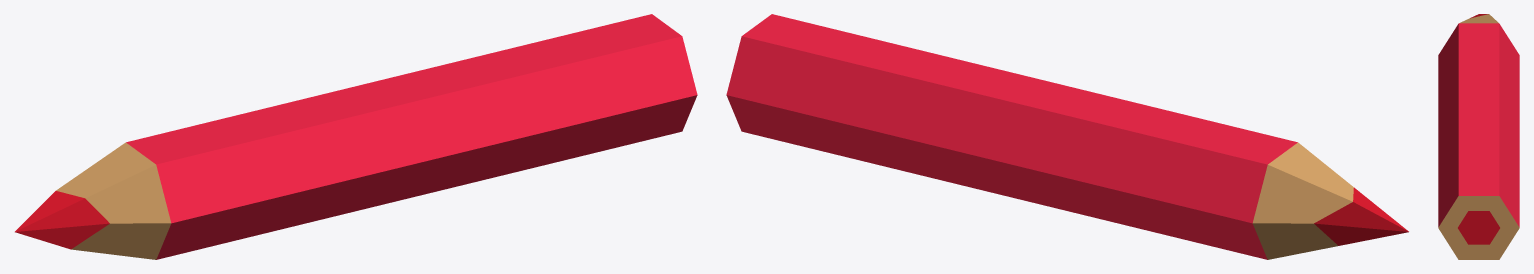
File: cryon.fbx
3 views of the same model, side by side, from view 1: azimuth 30°, elevation 25°; view 2: azimuth 150°, elevation 25°; view 3: azimuth 270°, elevation 25° (orthographic). The views are drawn at different scales.
Parts seen in each view (by area): view 1: cryon; view 2: cryon; view 3: cryon.
Boxes of the visible parts, x1,y1,x2,y2 form: cryon: [15, 14, 697, 259]; cryon: [726, 14, 1408, 259]; cryon: [1438, 14, 1519, 259].
Bounding box in the file's own units: 2.16 × 0.3021 × 0.3489.
